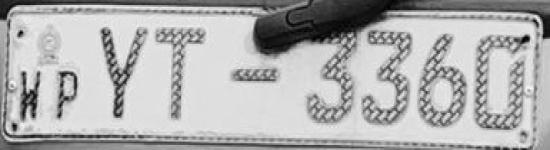-: (228, 65, 282, 92)
0: (474, 29, 532, 136)
3: (362, 25, 417, 134), (307, 19, 360, 128)
6: (420, 24, 472, 134)
P: (50, 66, 91, 121)
T: (155, 21, 211, 127)
W: (16, 63, 46, 124)
Y: (96, 22, 153, 125)
